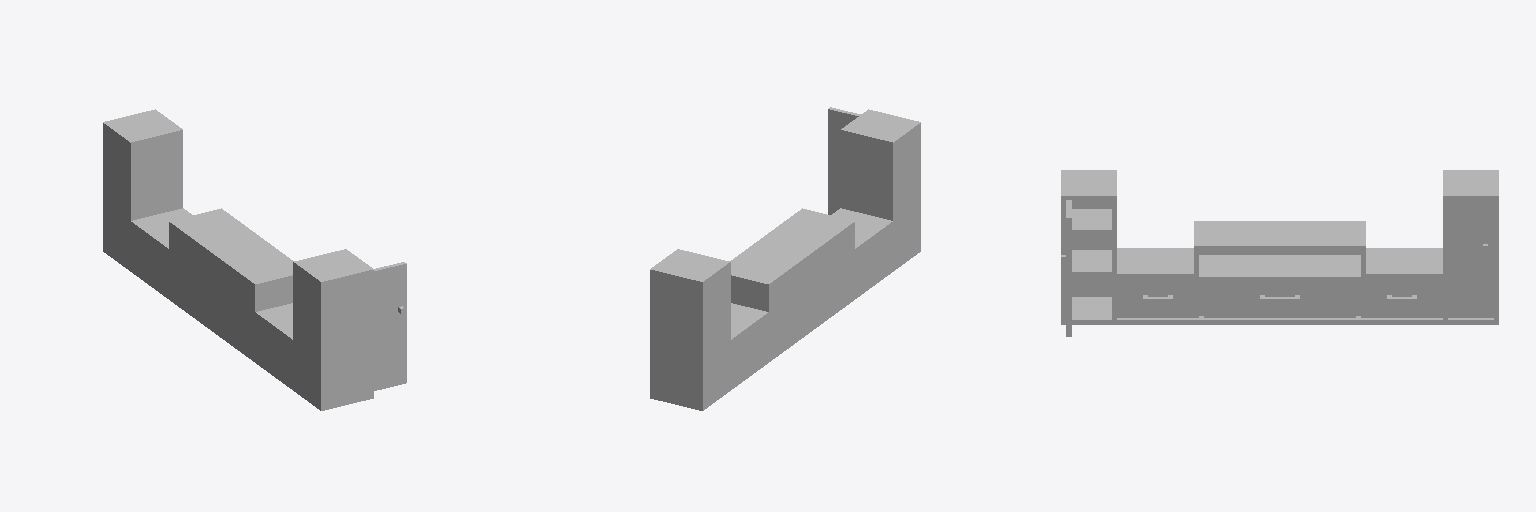
The model's file is _all Table.obj.
3 renders of one model, left to right at view 1: azimuth 30°, elevation 25°; view 2: azimuth 150°, elevation 25°; view 3: azimuth 270°, elevation 25°, orthographic.
Parts seen in each view (by area): view 1: object 1; view 2: object 1; view 3: object 1.
Boxes of the visible parts, box(x1,y1,x2,y2) form: object 1: box(103, 109, 406, 410); object 1: box(650, 107, 920, 410); object 1: box(1061, 170, 1498, 336).
Size of the model in its own units: 2 by 2.8 by 8.6.